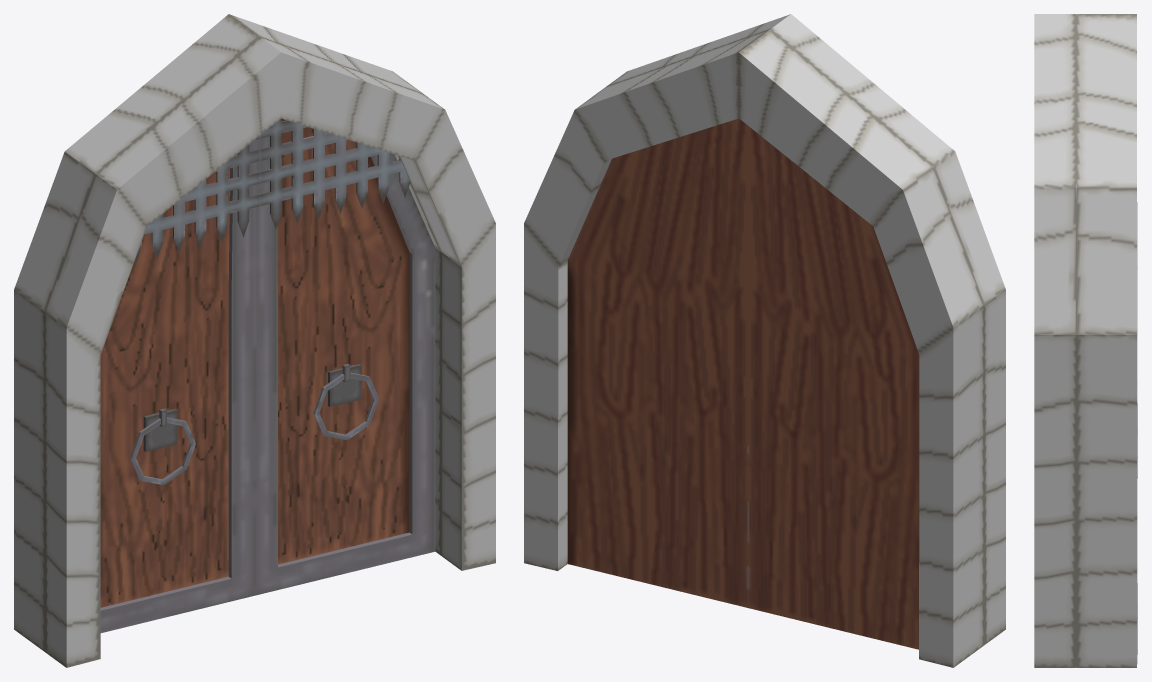
File: Gate.fbx
3 views of the same model, side by side, from view 1: azimuth 30°, elevation 25°; view 2: azimuth 150°, elevation 25°; view 3: azimuth 270°, elevation 25° (orthographic). The views are drawn at different scales.
Parts seen in each view (by area): view 1: Cube.001, Cube; view 2: Cube.001, Cube; view 3: Cube.
Part boxes in pixels (x1,y1,x2,y2): Cube.001: (100, 119, 435, 632); Cube: (14, 14, 495, 667); Cube.001: (567, 118, 919, 649); Cube: (524, 14, 1005, 667); Cube: (1034, 14, 1137, 667).
Bounding box in the file's own units: 797 × 999 × 170.
